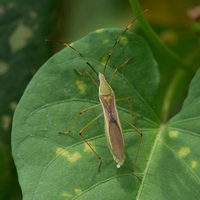insect: (45, 9, 147, 171)
